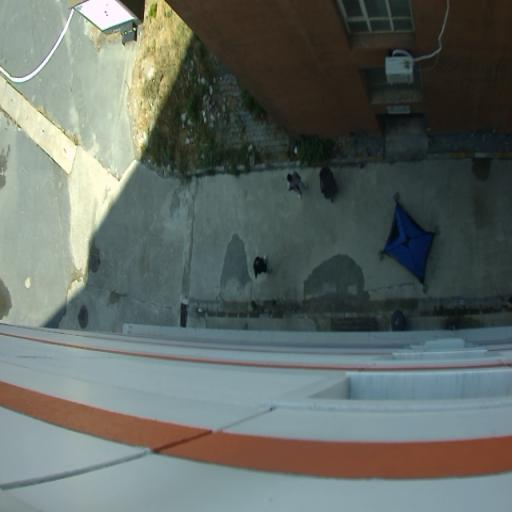tent: (376, 196, 444, 296)
